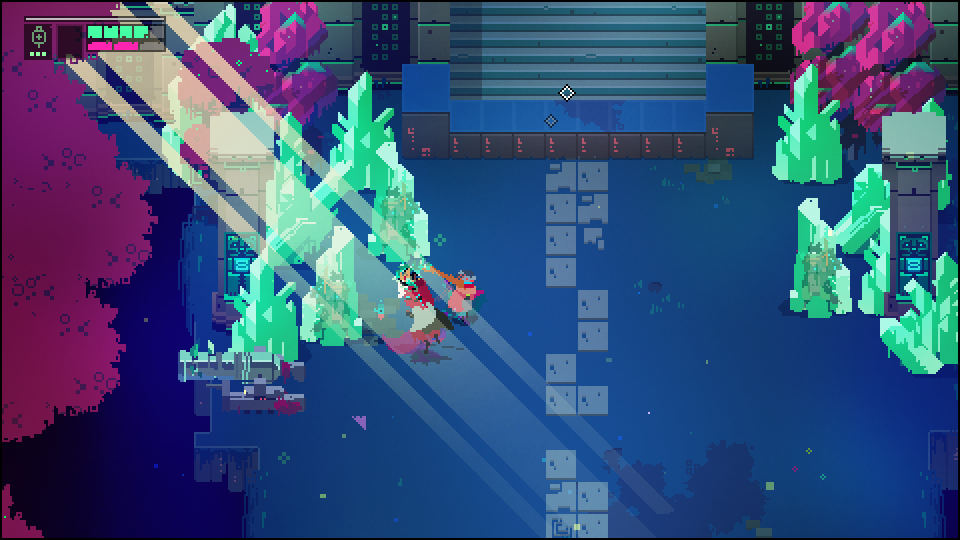hanged_man: (390, 257, 457, 365)
player: (450, 272, 479, 329)
